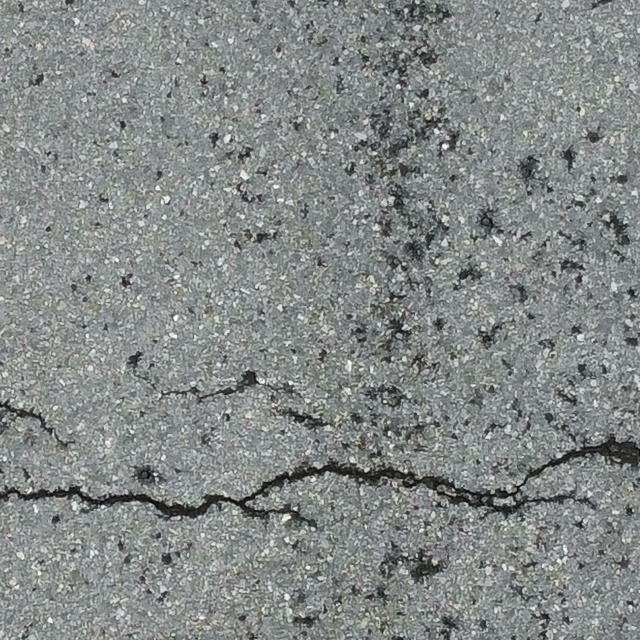TransverseCrack: (1, 438, 640, 526), (1, 403, 74, 449)
